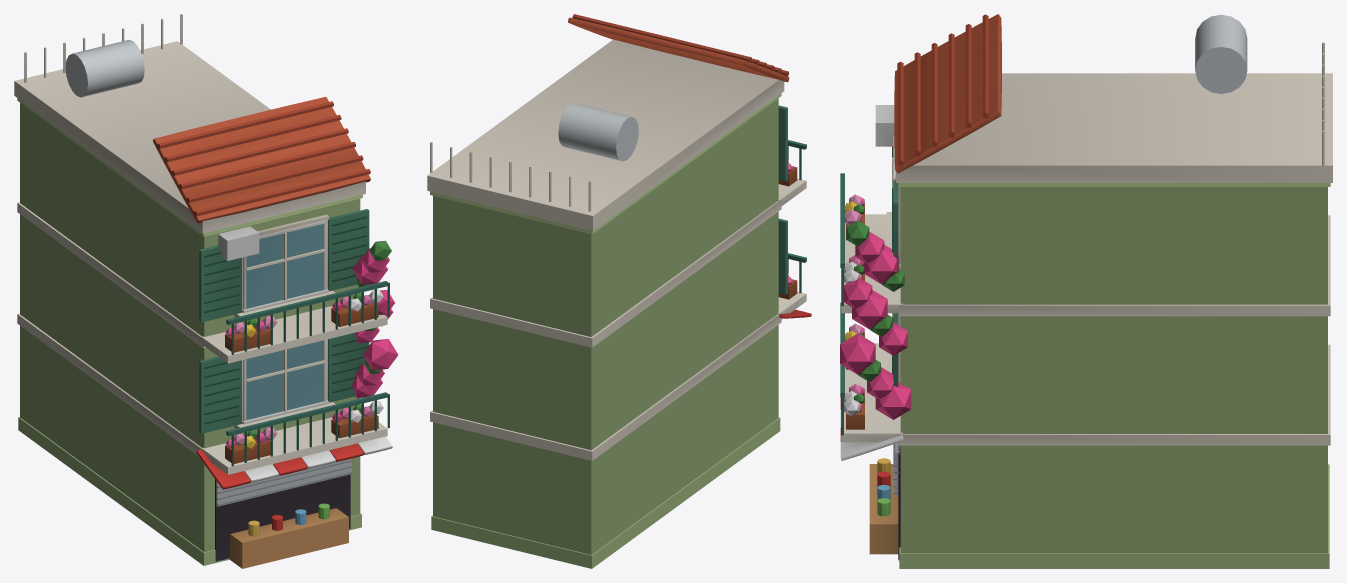
3 renders of one model, left to right at view 1: azimuth 30°, elevation 25°; view 2: azimuth 150°, elevation 25°; view 3: azimuth 270°, elevation 25°, orthographic. The views are drawn at different scales.
Bounding box in the file's own units: 5.07 × 10.95 × 10.37.
